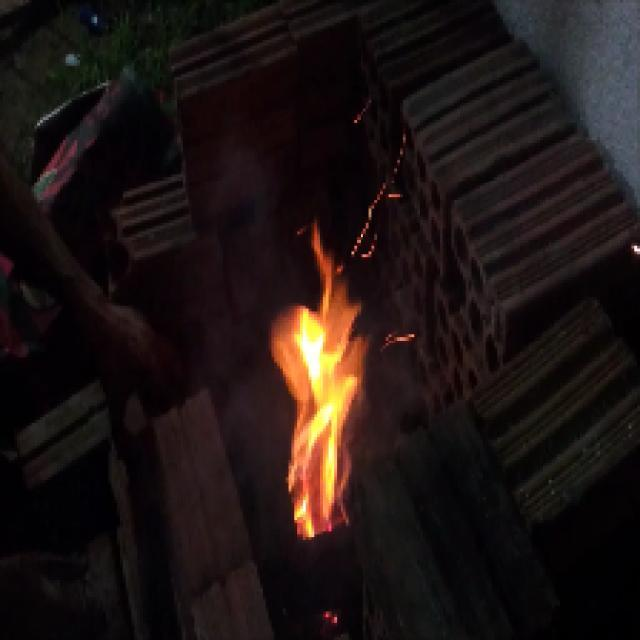Fire: (268, 220, 378, 543)
Smoke: (203, 186, 286, 494)
